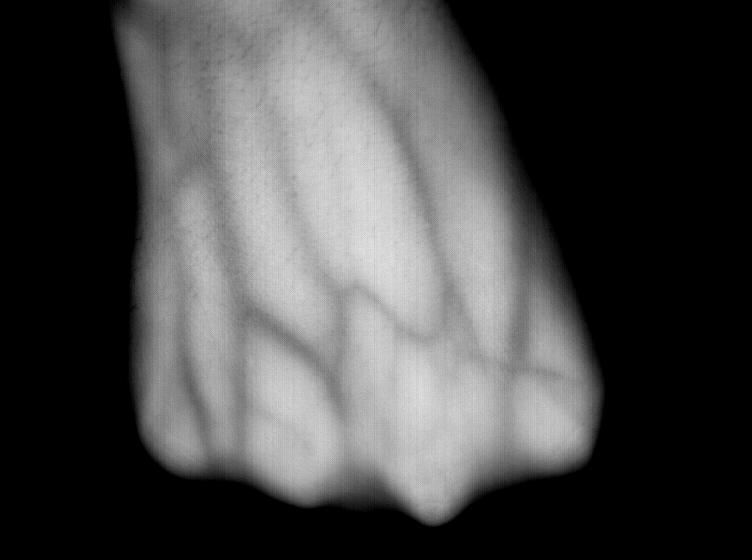Vein: (156, 74, 347, 402), (349, 60, 535, 373)
